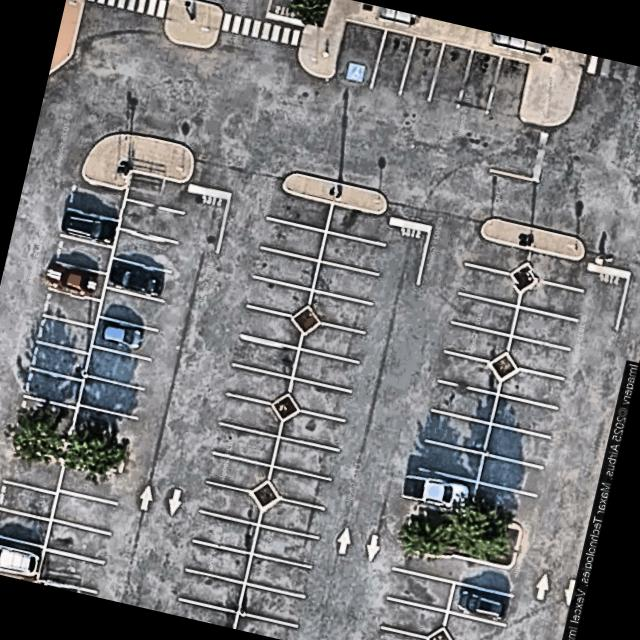car: (399, 473, 472, 511), (106, 261, 165, 299), (58, 209, 118, 244), (42, 260, 98, 296), (454, 586, 509, 622), (93, 319, 145, 350), (0, 541, 38, 577)
lot_boundary: (0, 0, 640, 640), (36, 315, 96, 352)
objects: (408, 501, 520, 568), (83, 131, 194, 189), (14, 427, 127, 472), (483, 217, 585, 257), (284, 172, 384, 212), (490, 349, 518, 379), (250, 481, 278, 508), (511, 263, 537, 291), (292, 306, 320, 332), (272, 394, 298, 419), (426, 628, 452, 640)
stall: (335, 21, 385, 86), (38, 548, 103, 592), (186, 538, 251, 582), (179, 568, 244, 612), (470, 483, 535, 527), (239, 305, 305, 348), (478, 451, 542, 495), (120, 198, 185, 241), (112, 229, 177, 272), (106, 258, 171, 301), (98, 286, 163, 329), (85, 345, 150, 388), (254, 246, 319, 289), (260, 217, 325, 260), (52, 490, 117, 533), (59, 460, 124, 503), (293, 347, 358, 390), (193, 510, 258, 553), (268, 187, 333, 230), (253, 523, 318, 566), (240, 582, 305, 625), (327, 202, 392, 245), (425, 410, 490, 453), (491, 393, 556, 436), (431, 380, 496, 423), (512, 305, 577, 348), (452, 292, 517, 335), (412, 469, 477, 512), (419, 439, 484, 482), (485, 423, 550, 466), (388, 567, 453, 610), (448, 582, 513, 625), (223, 363, 291, 404), (217, 393, 283, 435), (92, 316, 156, 359), (234, 334, 298, 377), (274, 436, 338, 479), (314, 259, 378, 302), (320, 231, 384, 274), (307, 289, 371, 332), (78, 375, 143, 417), (71, 407, 136, 449), (45, 519, 110, 561), (213, 423, 278, 465), (246, 553, 311, 595), (198, 481, 263, 523), (507, 335, 570, 378), (526, 248, 590, 290), (458, 262, 520, 305), (499, 368, 564, 409), (371, 29, 413, 92), (459, 49, 501, 112), (487, 56, 529, 119), (288, 378, 351, 420), (269, 466, 332, 508), (56, 206, 120, 247), (438, 350, 499, 393), (430, 43, 472, 105), (402, 37, 444, 99), (518, 279, 583, 319), (394, 542, 459, 582), (245, 276, 311, 315), (205, 452, 271, 491), (464, 235, 530, 274), (443, 323, 509, 362), (5, 448, 63, 492), (300, 322, 365, 361), (280, 410, 345, 449), (260, 498, 325, 537), (454, 555, 518, 594), (53, 234, 114, 274), (383, 599, 447, 637), (65, 181, 125, 220), (126, 173, 189, 210), (48, 261, 107, 300), (41, 287, 100, 326), (36, 315, 96, 353), (17, 397, 77, 435), (30, 342, 89, 380), (24, 369, 83, 407), (0, 479, 56, 518), (175, 597, 237, 628), (0, 507, 50, 545), (234, 611, 298, 640), (444, 611, 506, 640), (0, 533, 43, 573), (378, 626, 429, 640)
